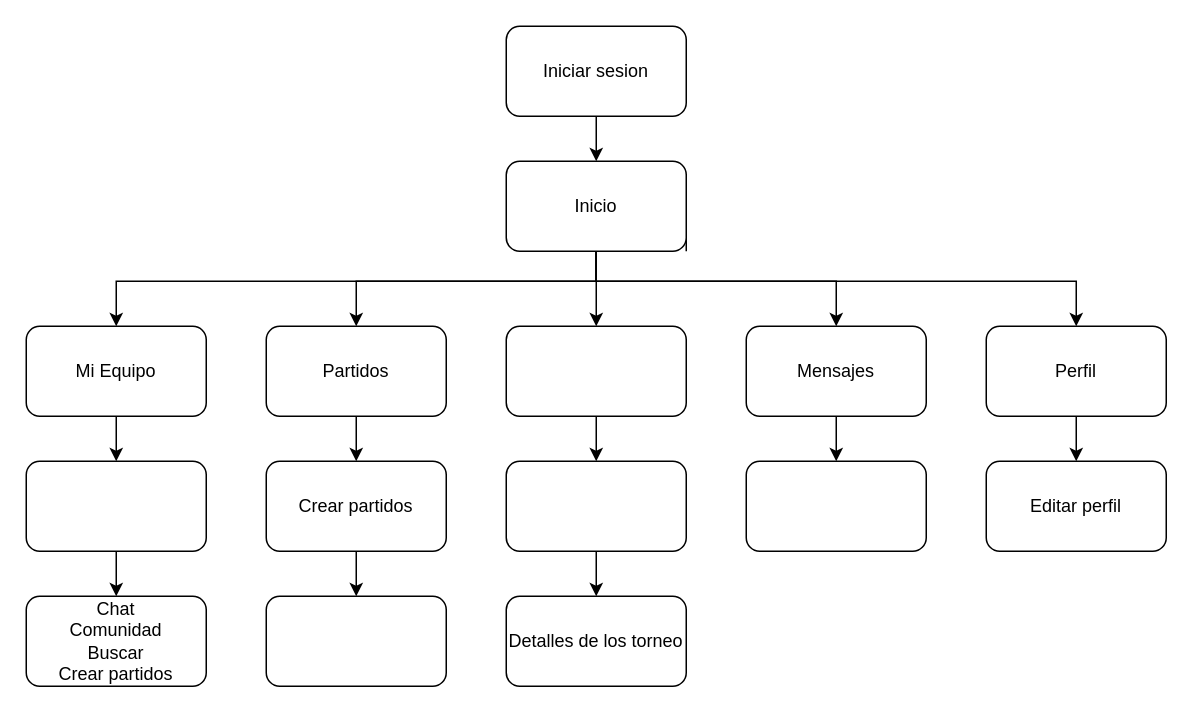
Image size: 1193x713. Some labels were removed from this diagram. The shapes that lost their labels are listed below. From the top down, each one's centre as x and y in pixels, then its label:
At point (595, 370): "Torneos".
At point (115, 505): "Opciones:".
At point (595, 505): "Crear torneo".
At point (835, 505): "Chats".
At point (355, 640): "Detalles de los partidos".
